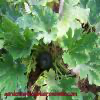Squash Powdery mildew leaf: (16, 4, 58, 44), (2, 14, 35, 58), (60, 29, 99, 66), (0, 53, 28, 99), (58, 0, 90, 38), (46, 76, 85, 99), (79, 45, 100, 85)
